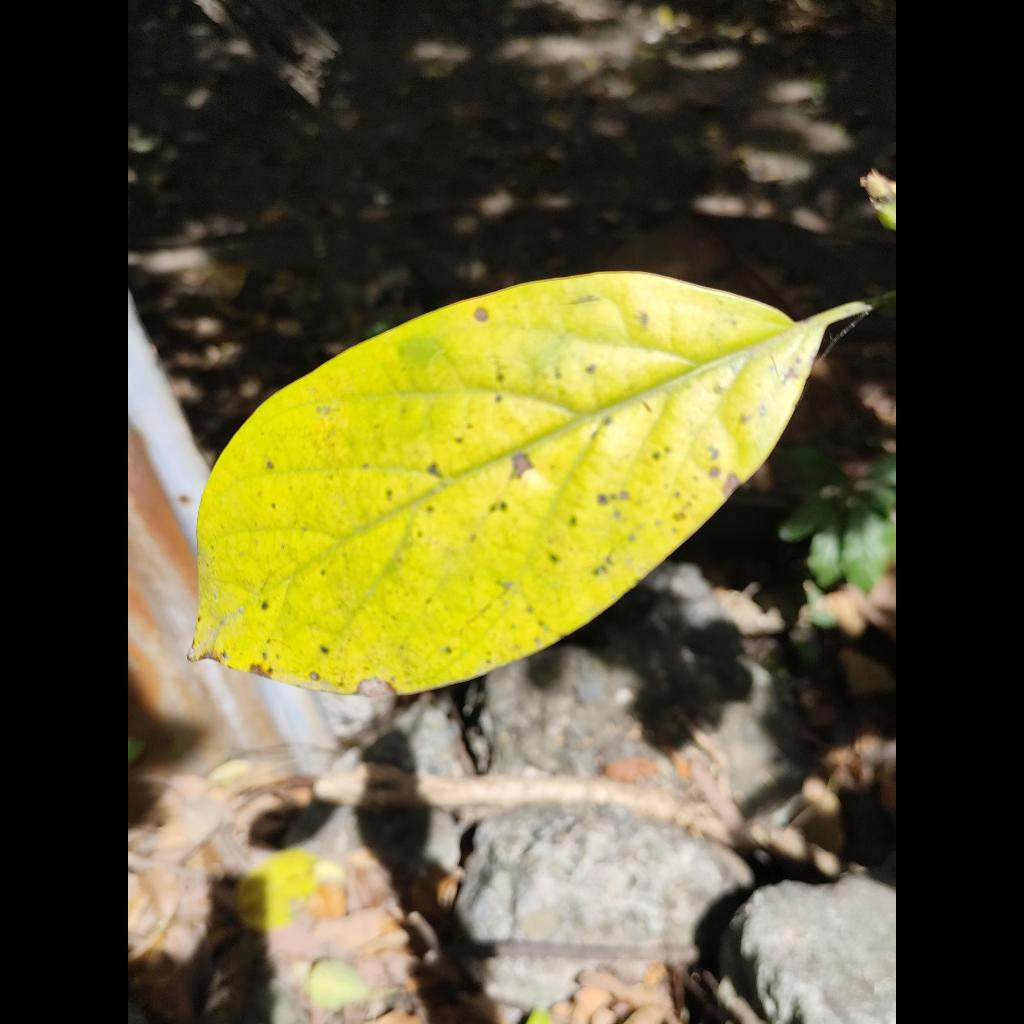deficiencia_nutricional: (190, 272, 869, 694)
